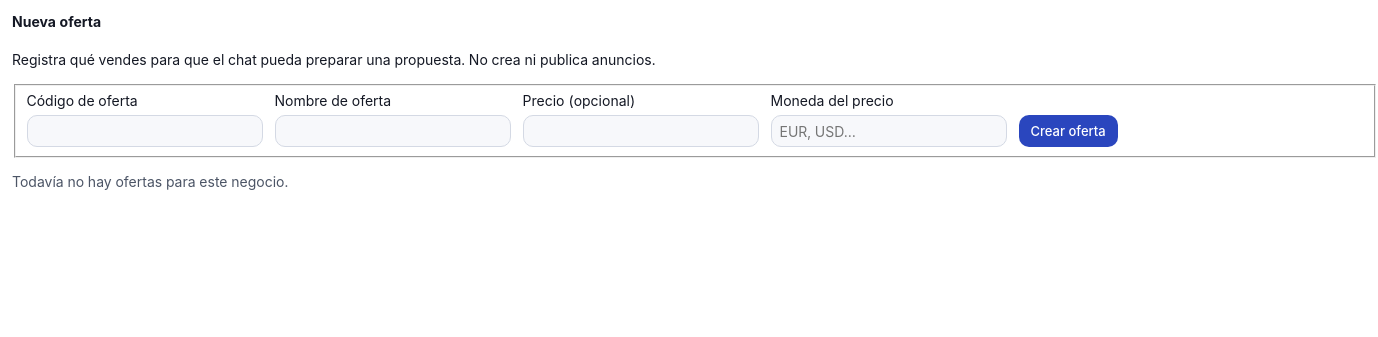
explicit catalog onboarding › never posts automatically; optional price remains absent and refreshes the real list
The width and height of the screenshot is (1378, 337).
Type "acme" into the field labelled "Código de oferta" at (144, 131), box x1=26 y1=115 x2=262 y2=147
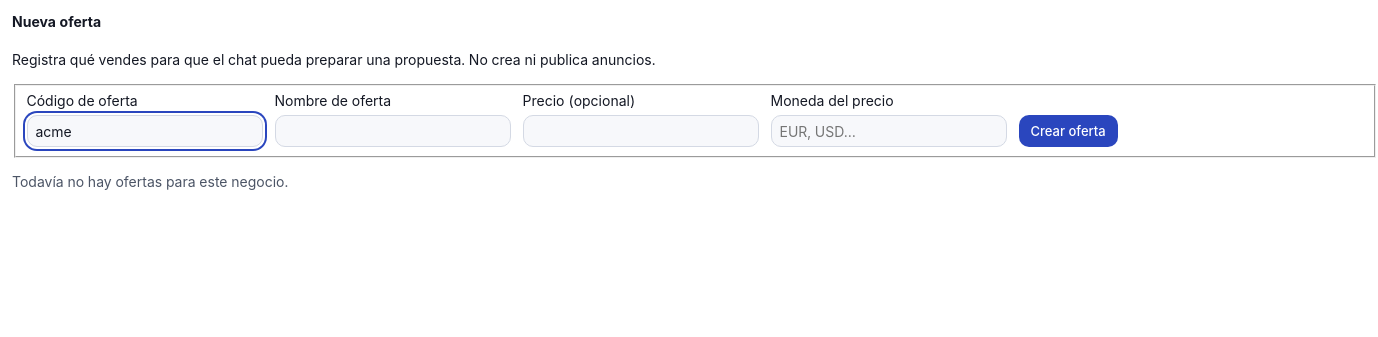
Type "Plan Acme" into the field labelled "Nombre de oferta" at (392, 131), box x1=274 y1=115 x2=510 y2=147
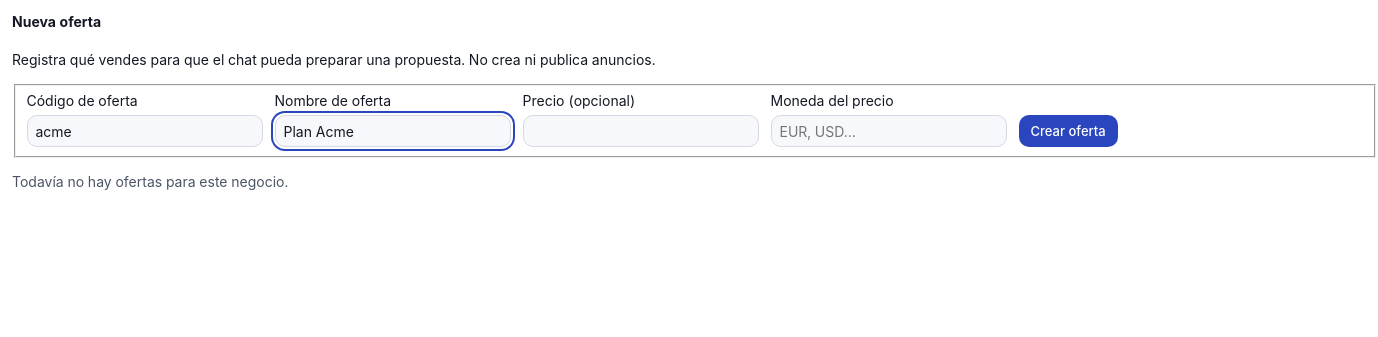
Click the button "Crear oferta" at (1068, 131), box x1=1018 y1=115 x2=1118 y2=147
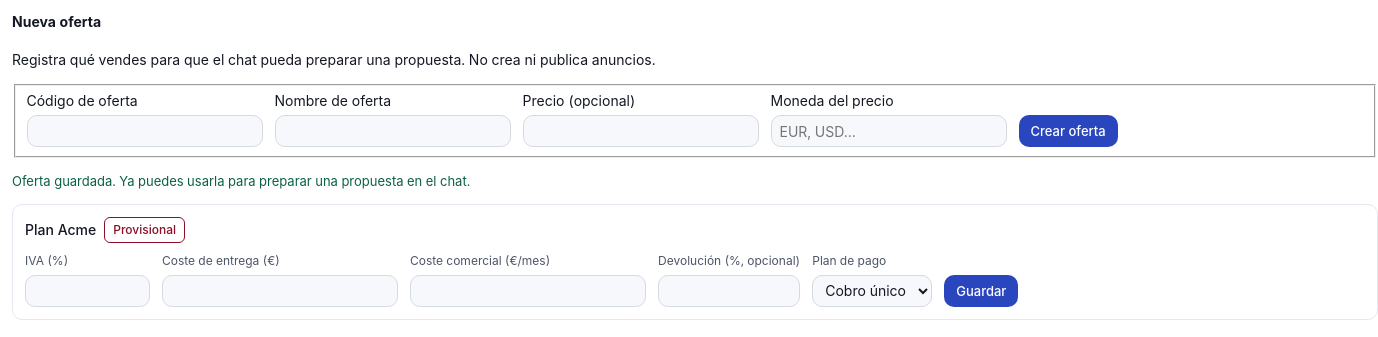
Expected: the text "Plan Acme" is shown, x1=25 y1=220 x2=96 y2=240
Expected: the message shows "Oferta guardada", x1=12 y1=173 x2=470 y2=189
